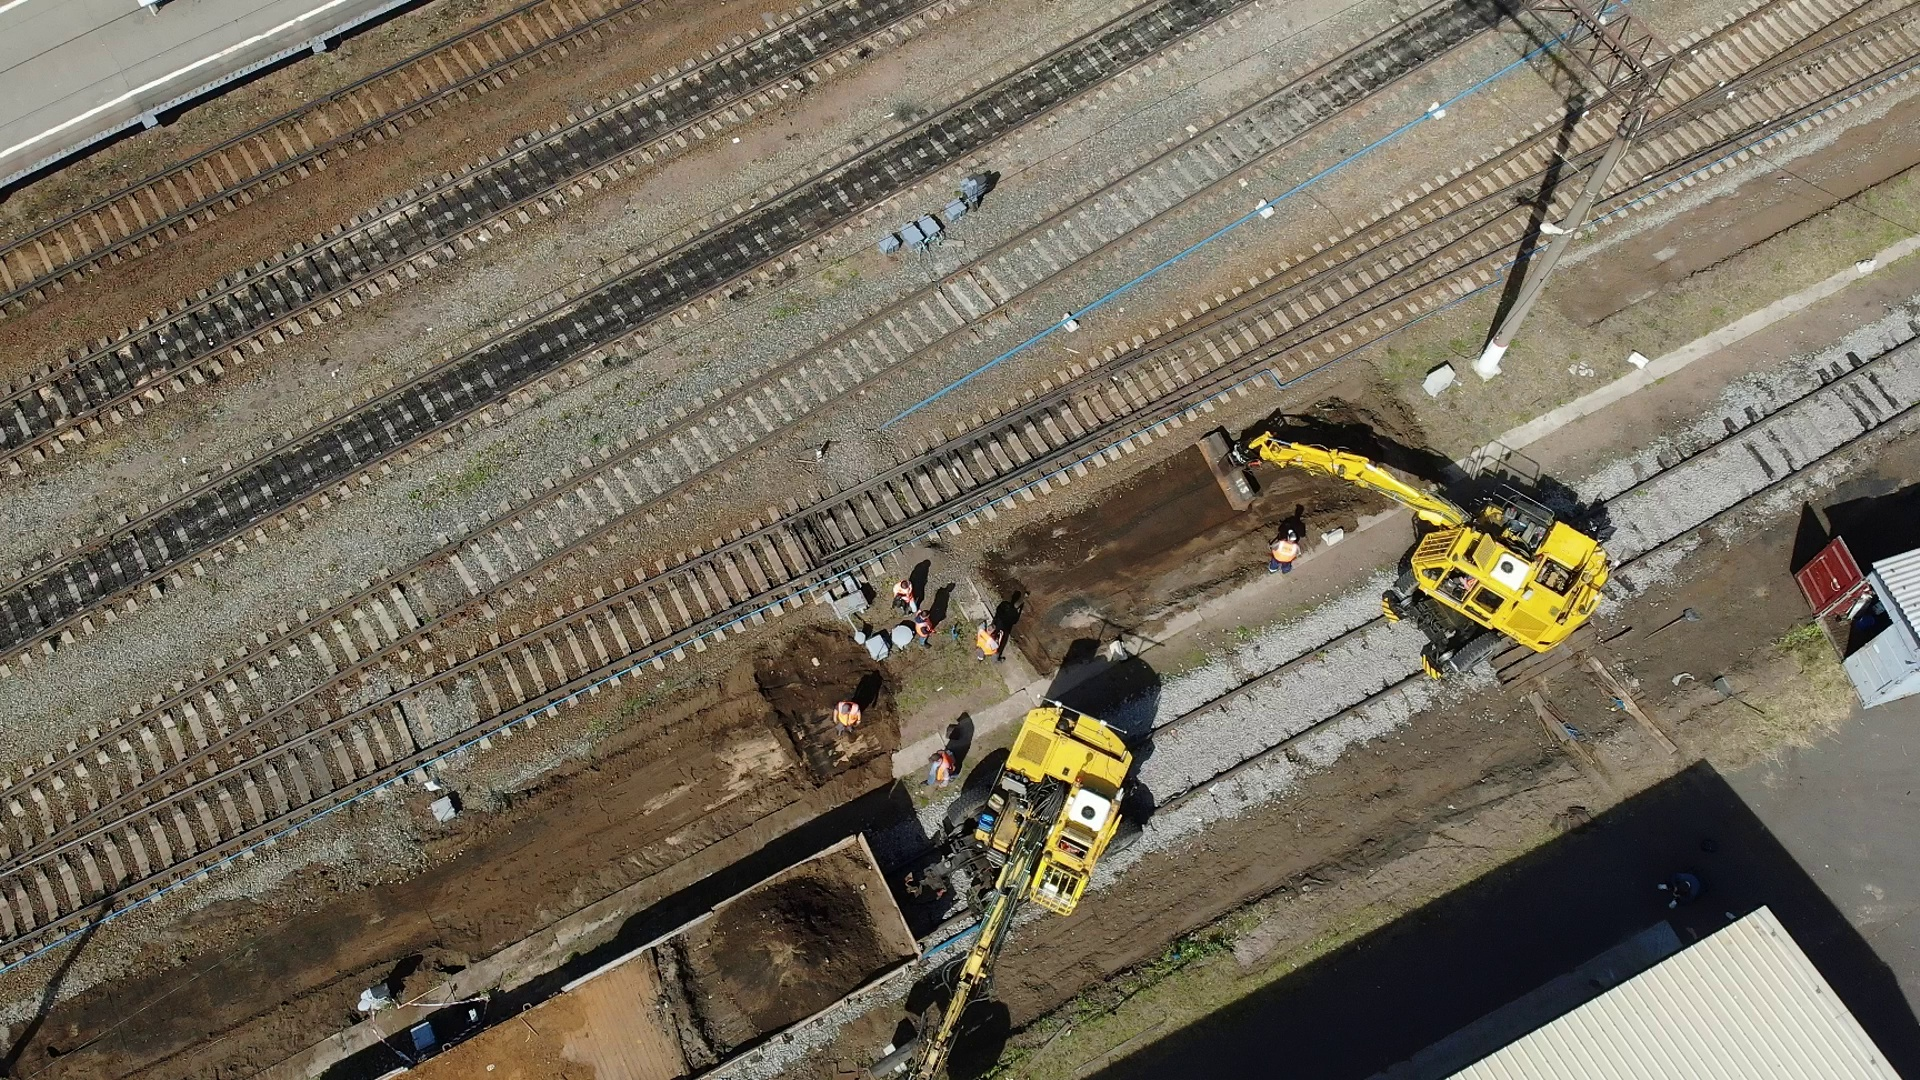kjtv: (1357, 471, 1607, 663), (953, 698, 1133, 913)
